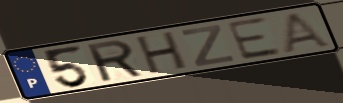5: (39, 43, 91, 89)
A: (281, 10, 335, 54)
E: (223, 15, 285, 62)
H: (135, 29, 190, 77)
R: (83, 38, 147, 84)
Z: (179, 23, 238, 68)
